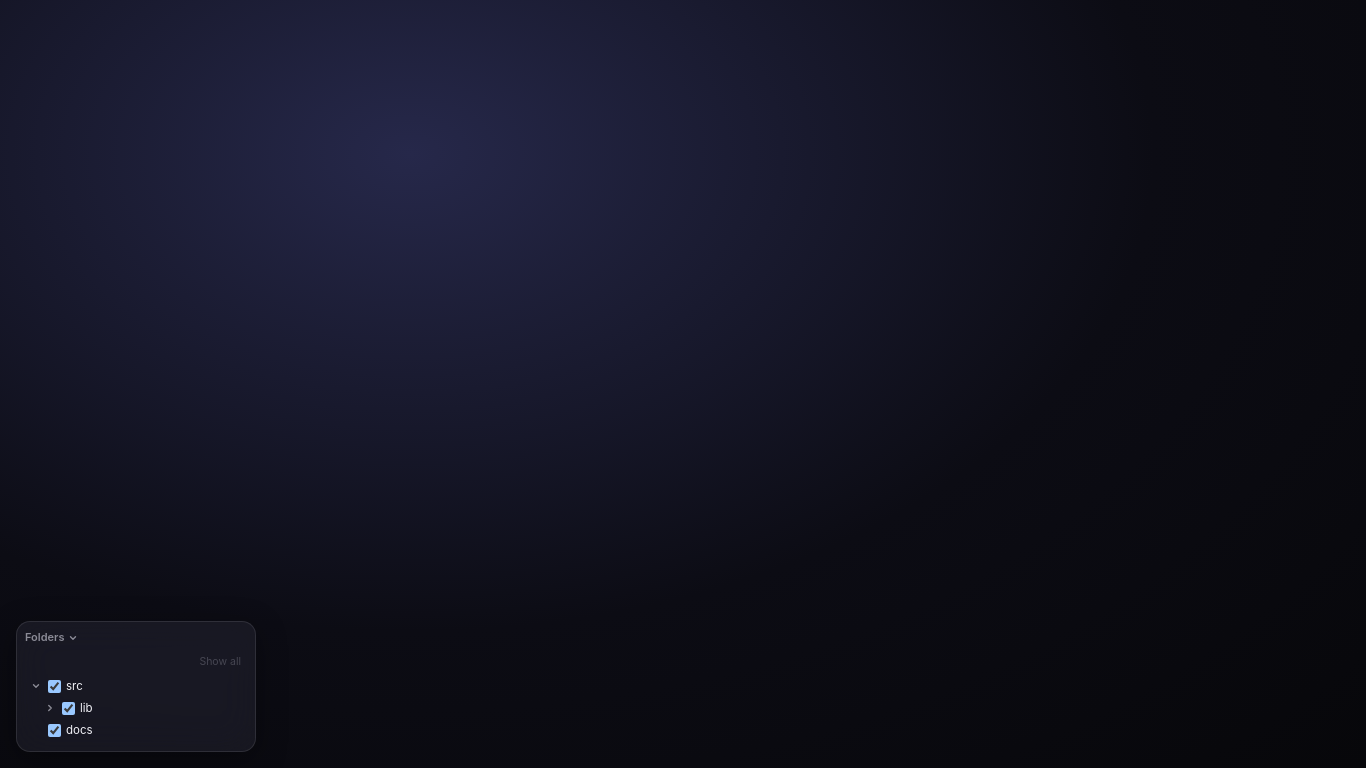
Test case: DirFilter › expands a deeper level from its caret
This screenshot has width=1366, height=768.
Click the button named "Expand" at (50, 708), box [43,701,57,715]
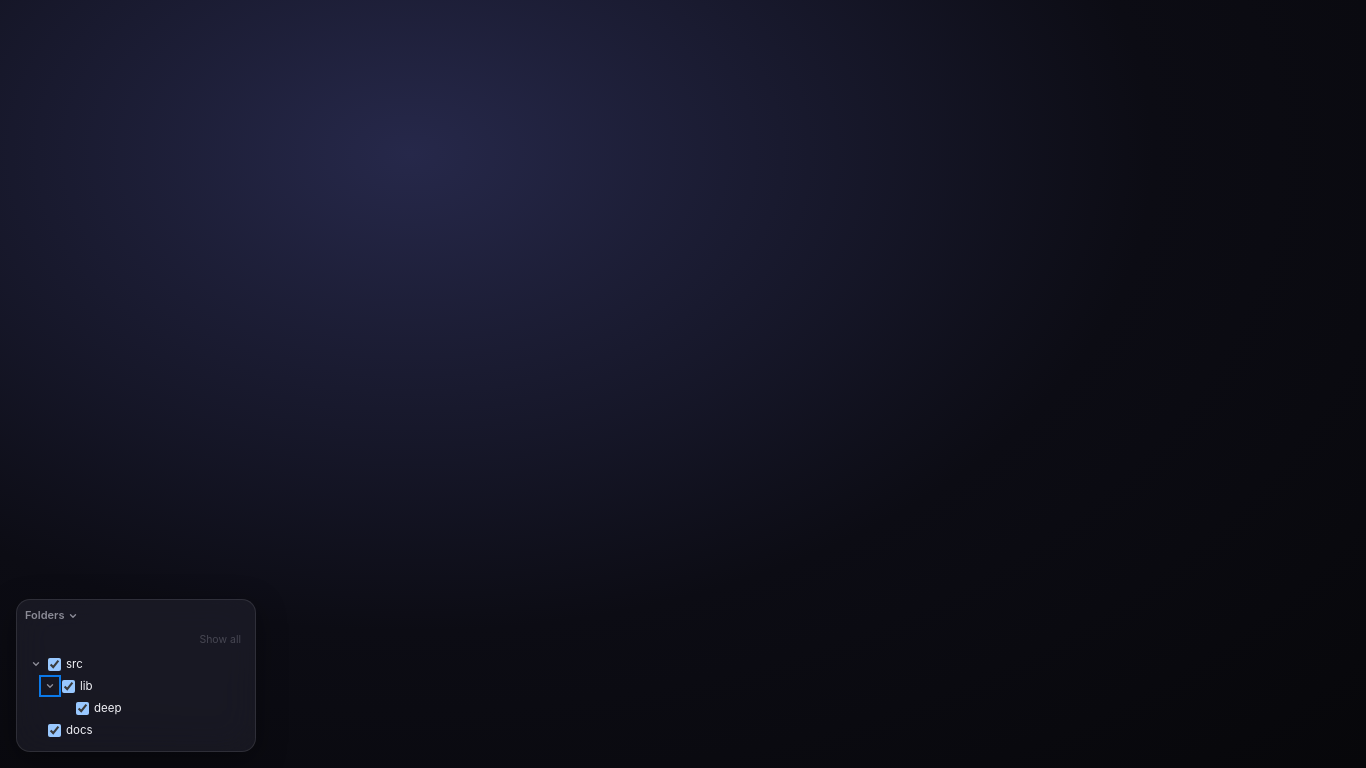
Result: the button named "Expand" next to "lib" is expanded at [43,679,57,693]
Result: the checkbox labelled "deep" is shown at [76,702,89,714]
